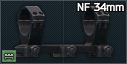Nightforce Magmount 34mm rings: (0, 0, 127, 64)
